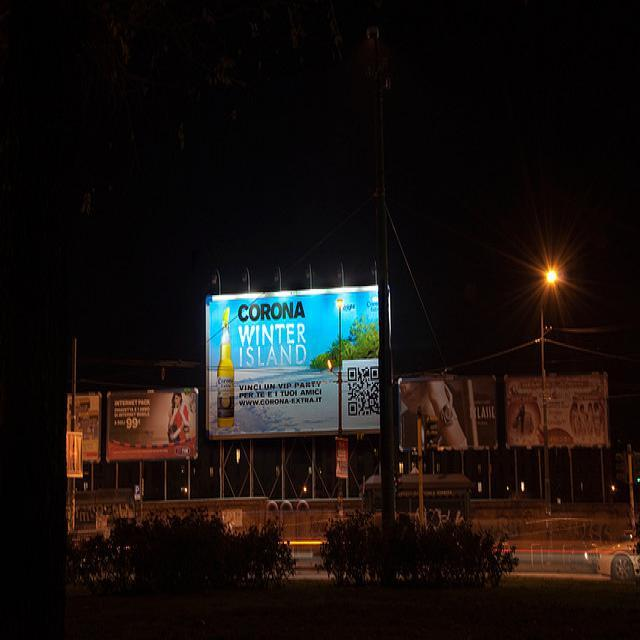qrcode: (349, 369, 380, 415)
